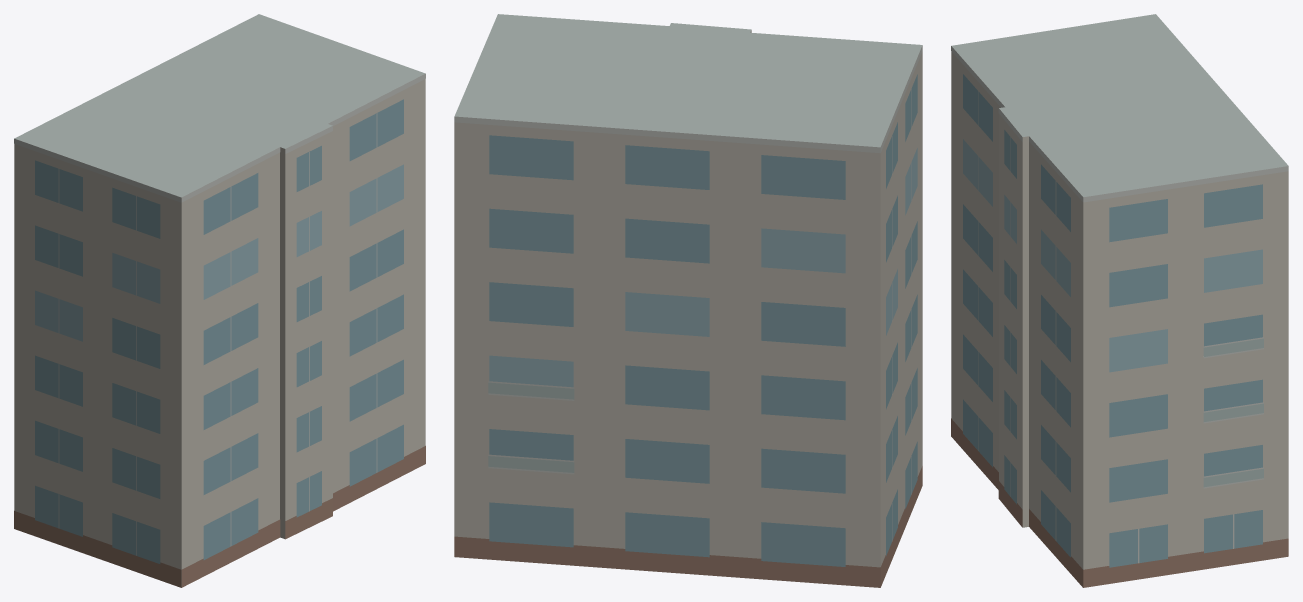
Rendered from survey-upis-32931146.glb.
3 views of the same model, side by side, from view 1: azimuth 30°, elevation 25°; view 2: azimuth 150°, elevation 25°; view 3: azimuth 270°, elevation 25° (orthographic). The views are drawn at different scales.
Visible parts, largest first — view 1: survey-upis-32931146.tmp; view 2: survey-upis-32931146.tmp; view 3: survey-upis-32931146.tmp.
Part boxes in pixels (x1,y1,x2,y2): survey-upis-32931146.tmp: (14,14,425,587); survey-upis-32931146.tmp: (454,14,922,587); survey-upis-32931146.tmp: (951,14,1288,587).
Bounding box in the file's own units: 18.43 × 18.3 × 14.34.
